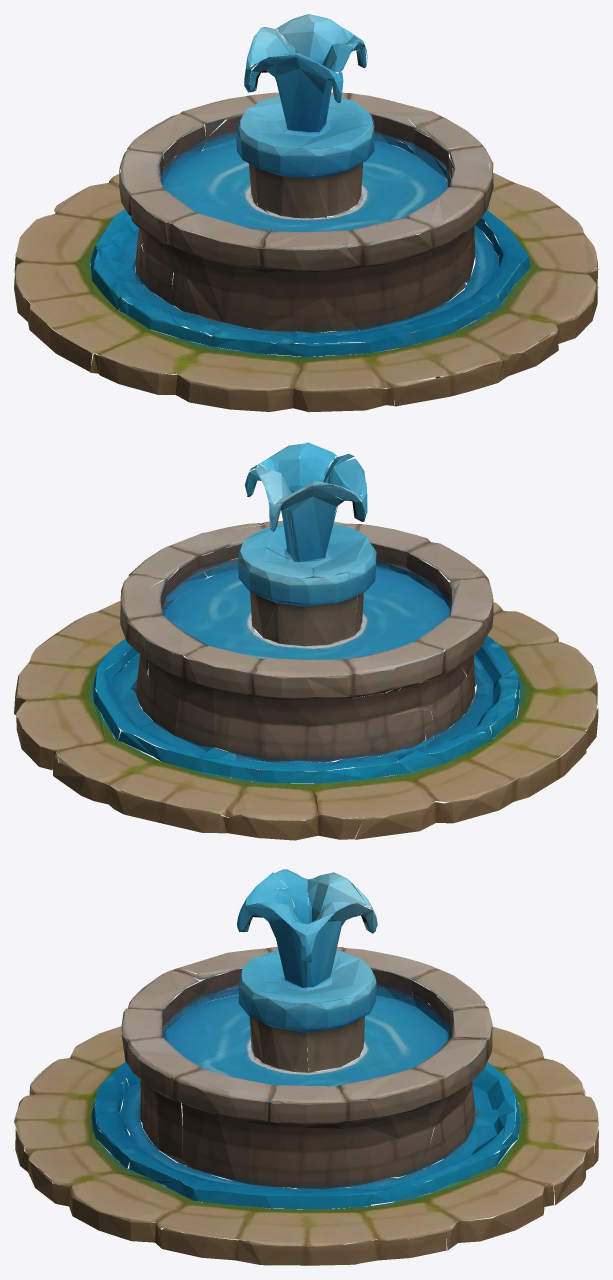
File: fountain.glb
The picture shows the model from 3 angles, top to bottom: view 1: azimuth 30°, elevation 25°; view 2: azimuth 150°, elevation 25°; view 3: azimuth 270°, elevation 25°; orthographic projection.
Visible parts, largest first — view 1: geometry_0; view 2: geometry_0; view 3: geometry_0.
Part boxes in pixels (x1,y1,x2,y2): geometry_0: [14, 14, 598, 412]; geometry_0: [14, 442, 598, 840]; geometry_0: [14, 869, 598, 1265].
Bounding box in the file's own units: 1 × 0.4857 × 1.
Materials: 1 (1 with a texture image).
